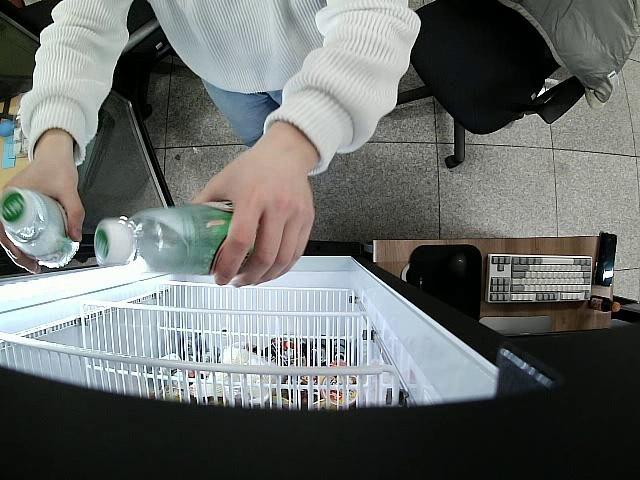18_trevi: (96, 201, 256, 278), (0, 186, 79, 269)
